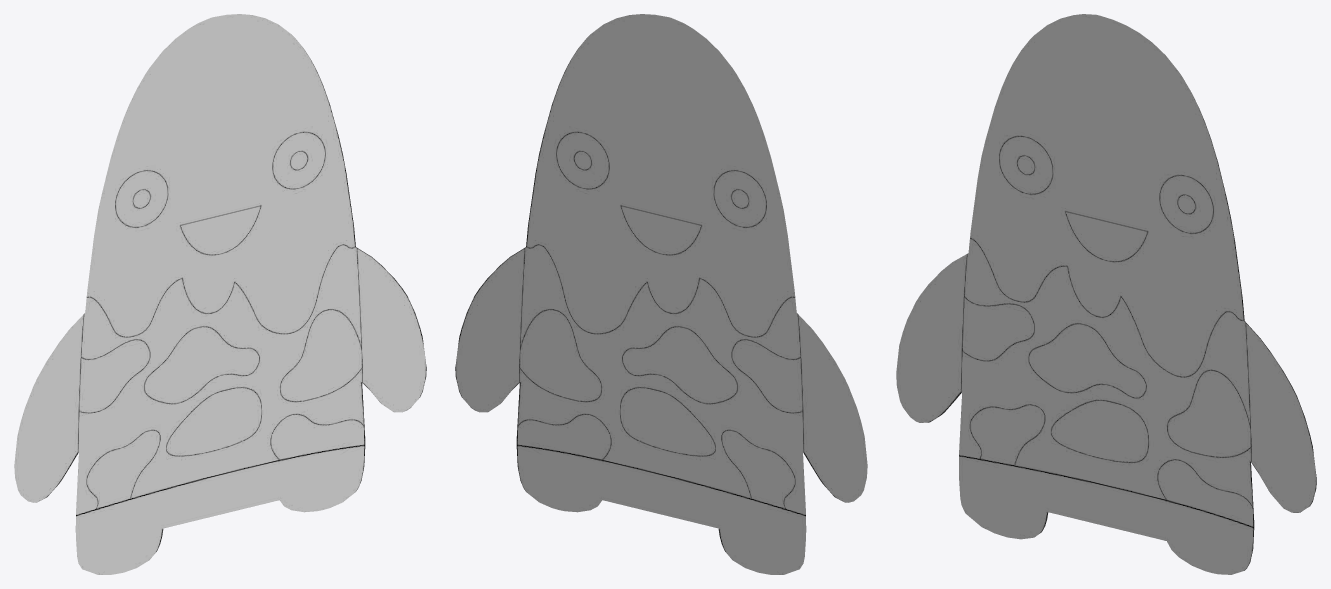
The model's file is 34_woori-01_fix.fbx.
The picture shows the model from 3 angles, left to right: view 1: azimuth 30°, elevation 25°; view 2: azimuth 150°, elevation 25°; view 3: azimuth 330°, elevation 25°; orthographic projection. The views are drawn at different scales.
Visible parts, largest first — view 1: planarTrimmedSurface5; view 2: planarTrimmedSurface5; view 3: planarTrimmedSurface5.
Boxes of the visible parts, bbox=[...] form: planarTrimmedSurface5: bbox=[14, 14, 426, 574]; planarTrimmedSurface5: bbox=[455, 14, 867, 574]; planarTrimmedSurface5: bbox=[896, 14, 1316, 574].
Size of the model in its own units: 9.43 by 11.67 by 0.0356.
1 material, 1 textured.
